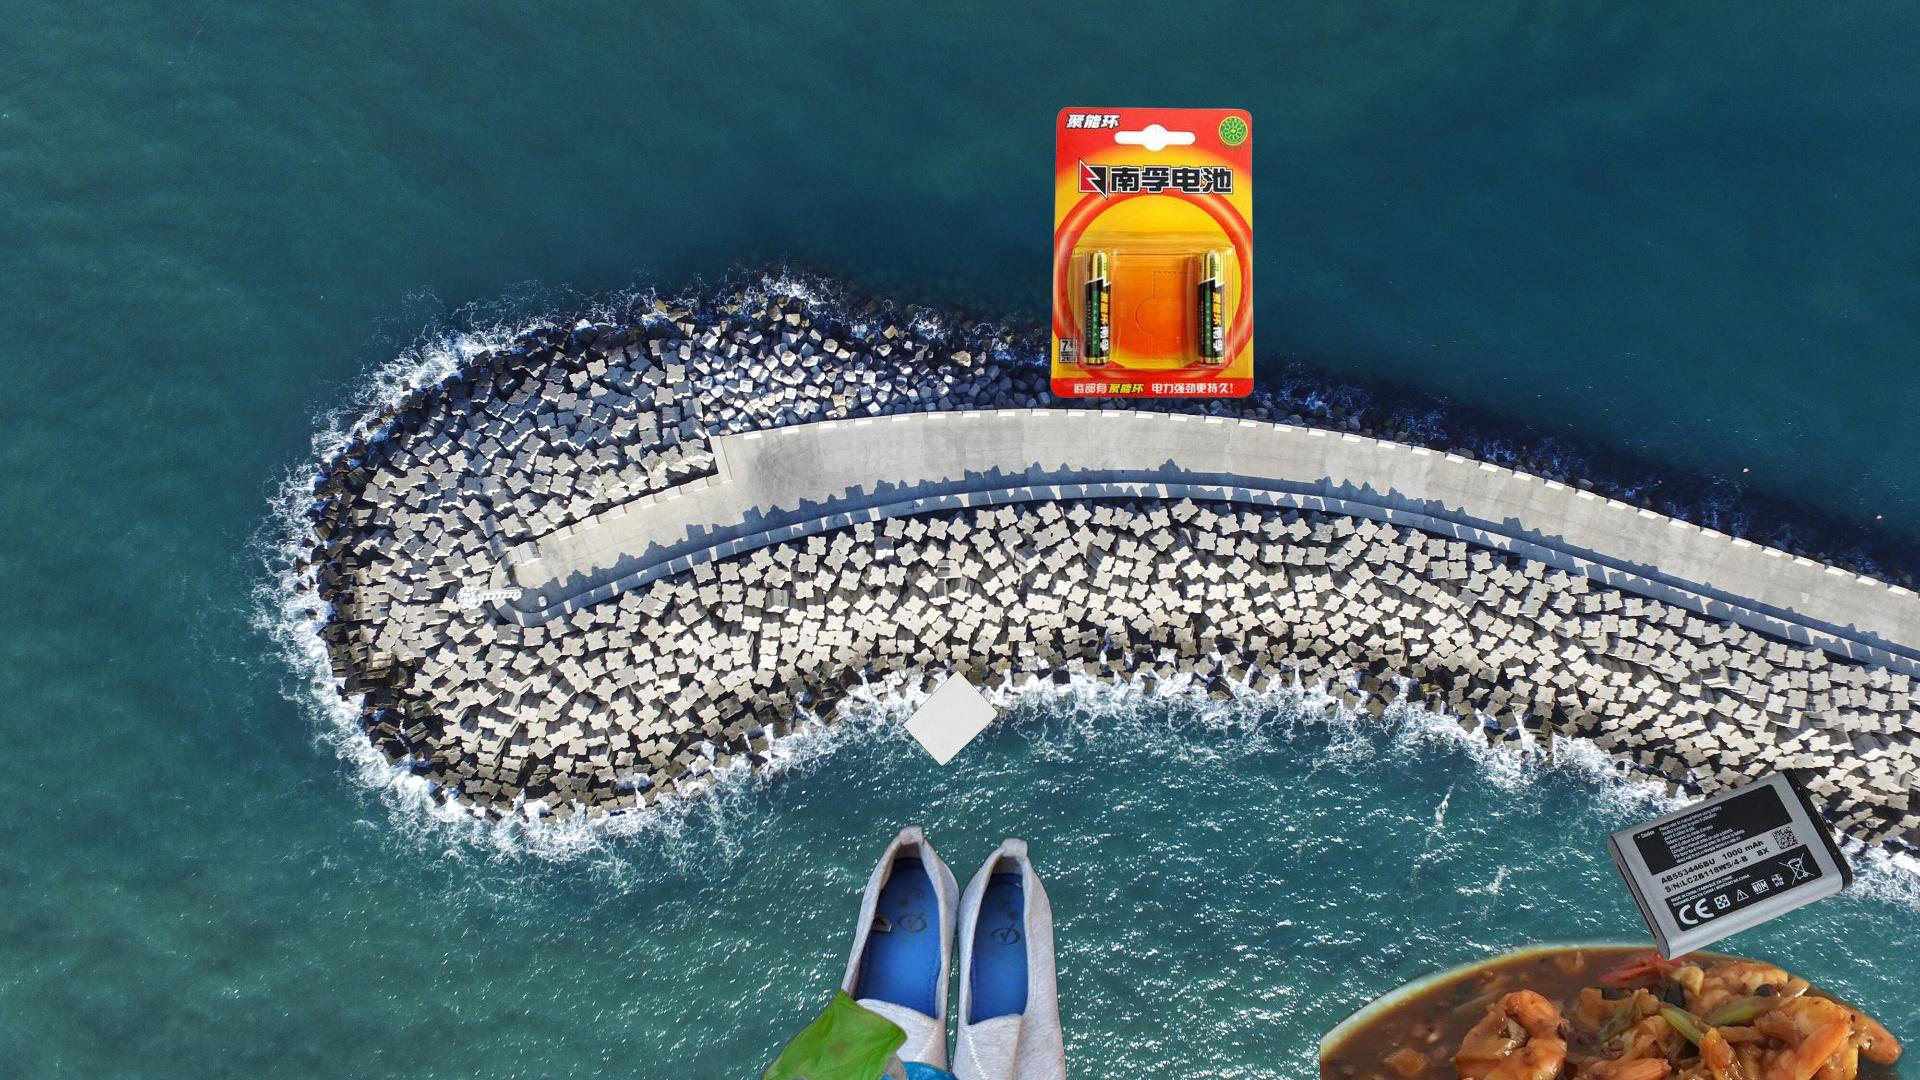battery: (1047, 105, 1257, 401), (1605, 764, 1855, 964)
biological: (1320, 905, 1920, 1080)
paper-bag: (899, 667, 1000, 767)
plastic-bag: (760, 986, 964, 1080)
shoes: (827, 820, 1069, 1080)
